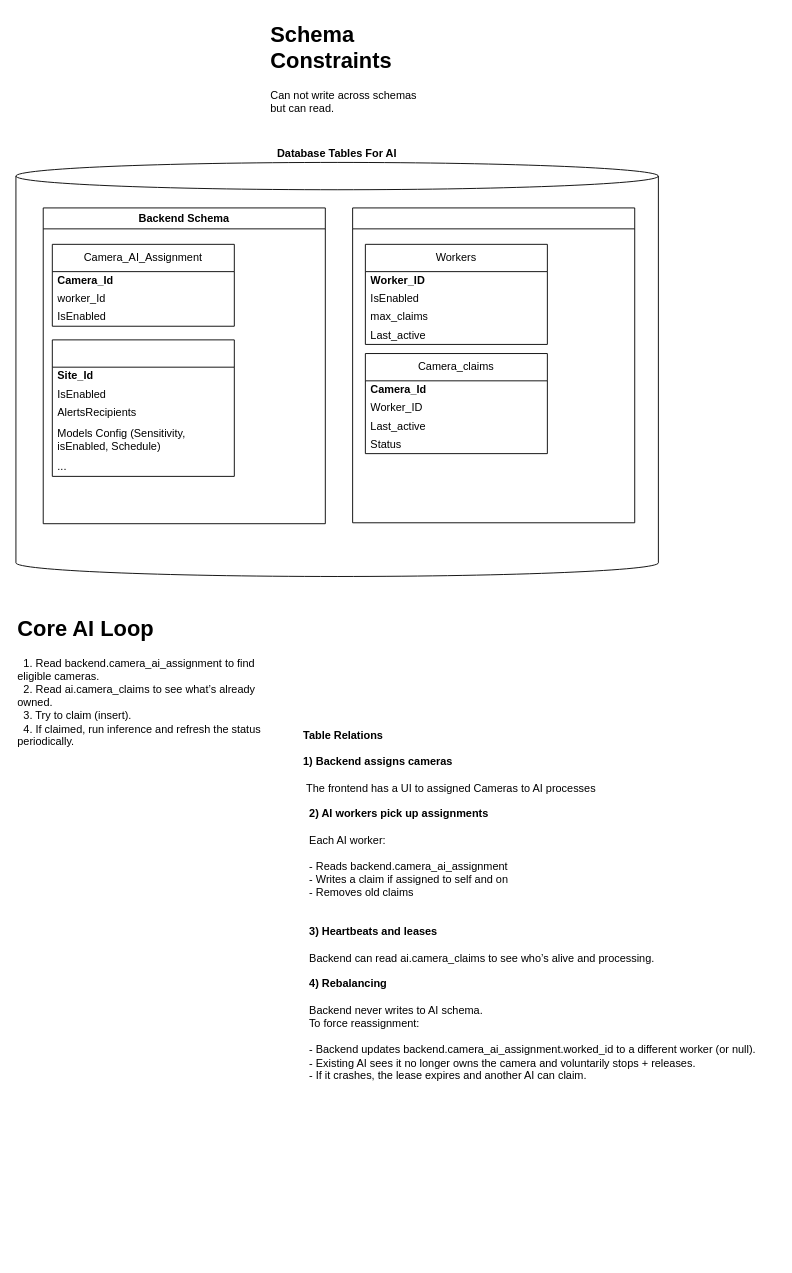
Some shapes in this 792 by 1273 pixel diagram are drawn without their labels. Here are the shapes that lost their labels. From the top down, the box of each, then its label:
(352, 207, 635, 523): AI Schema
(51, 339, 234, 476): SiteRuleConfig
